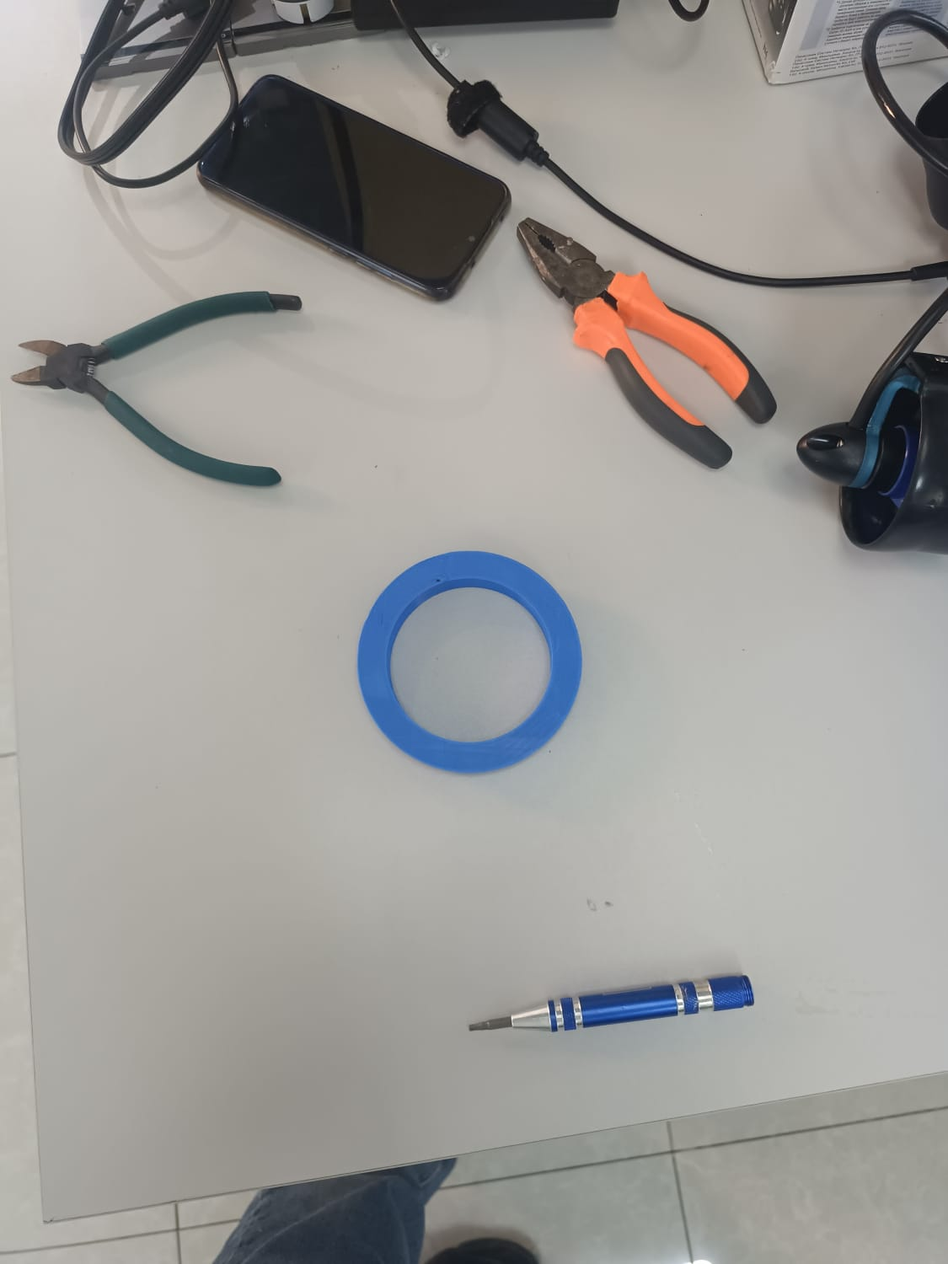Circle: (347, 544, 597, 782)
